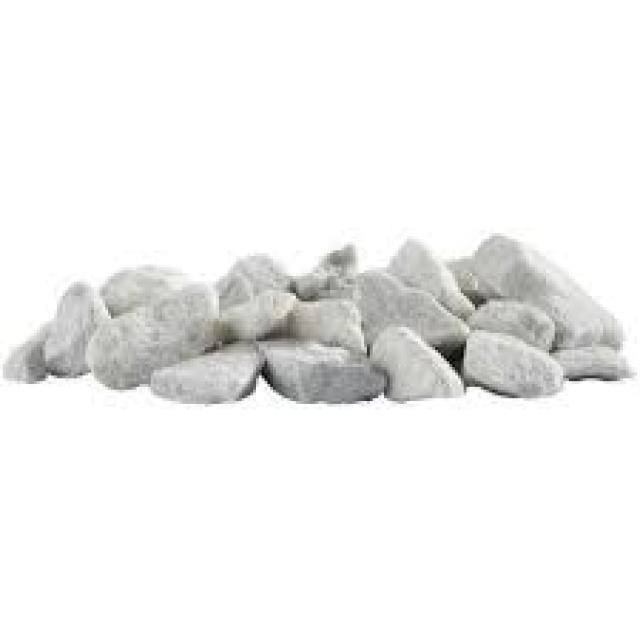Metamorphic: (3, 251, 634, 398)
